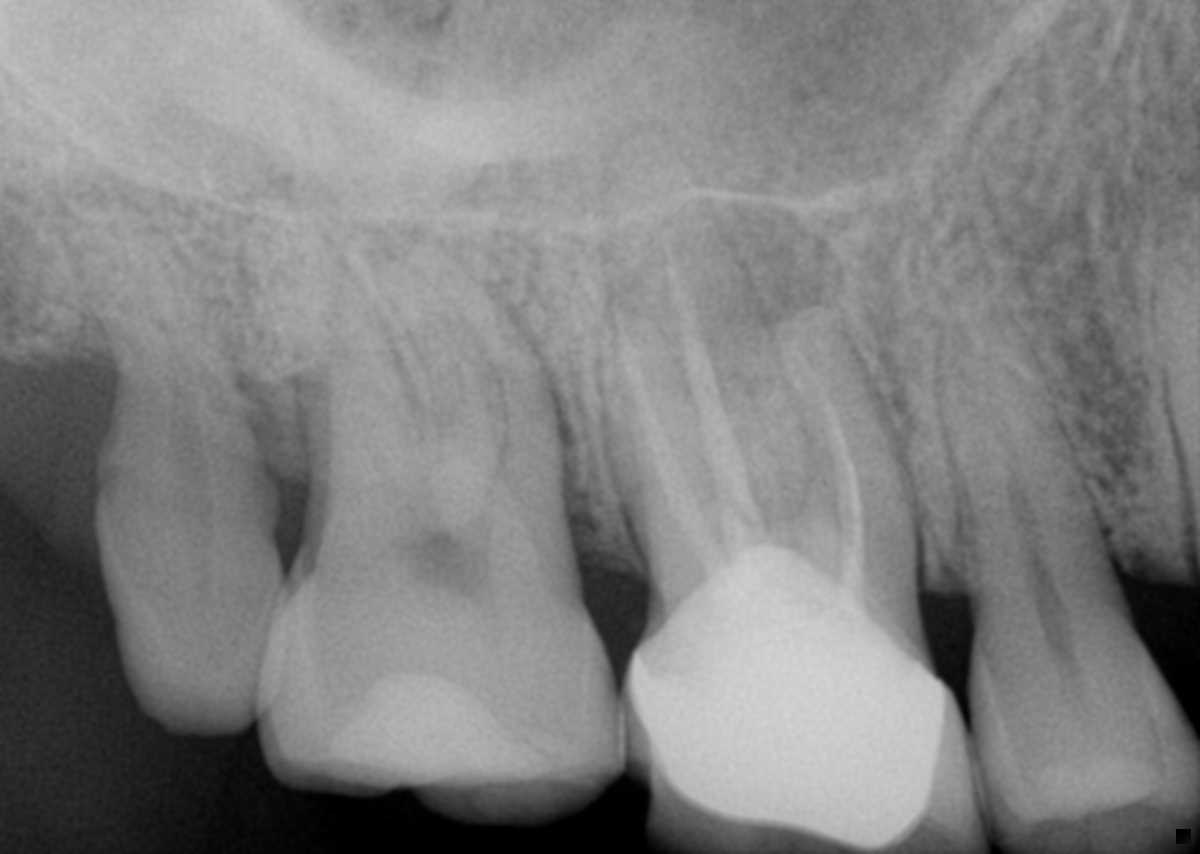Apical Lesion: (623, 186, 844, 338)
Distal Root: (253, 216, 422, 505), (601, 297, 761, 575)
Main Canal: (985, 307, 1055, 596)
Main Root: (939, 262, 1116, 597), (62, 187, 267, 454), (1153, 202, 1200, 544)
Mesial Canal: (402, 265, 510, 499)
Mesial Root: (368, 224, 573, 510), (778, 305, 921, 574)
Palatal Root: (600, 135, 851, 575)
Root Canal Filling: (662, 220, 765, 551), (619, 330, 728, 563), (792, 345, 859, 591)
